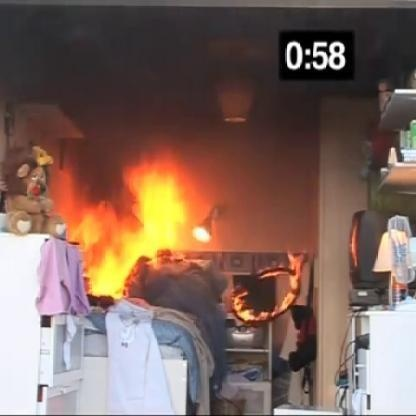fire: (72, 163, 184, 259)
